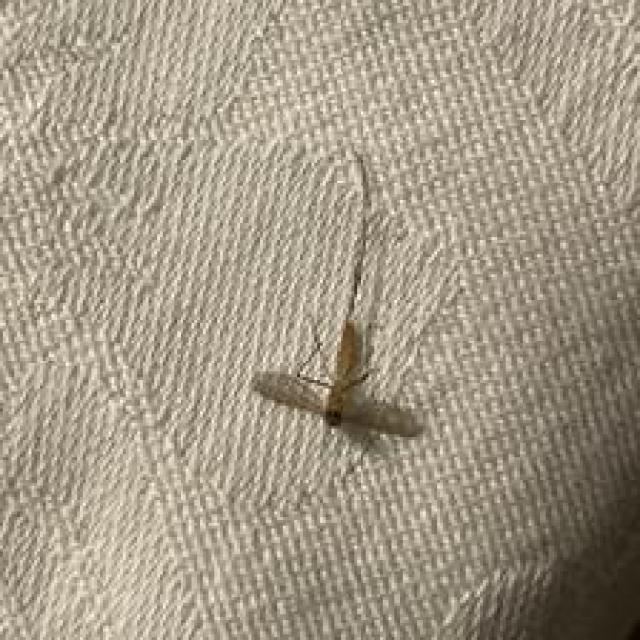Culex: (248, 152, 426, 454)
